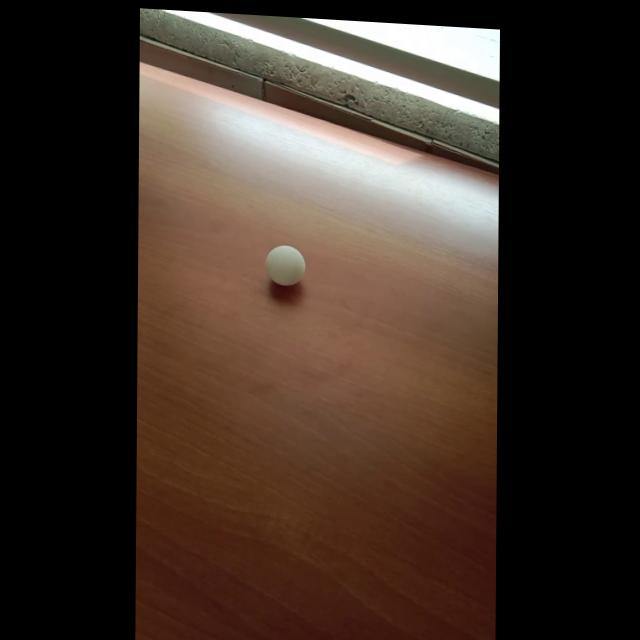white ball: (265, 243, 305, 287)
